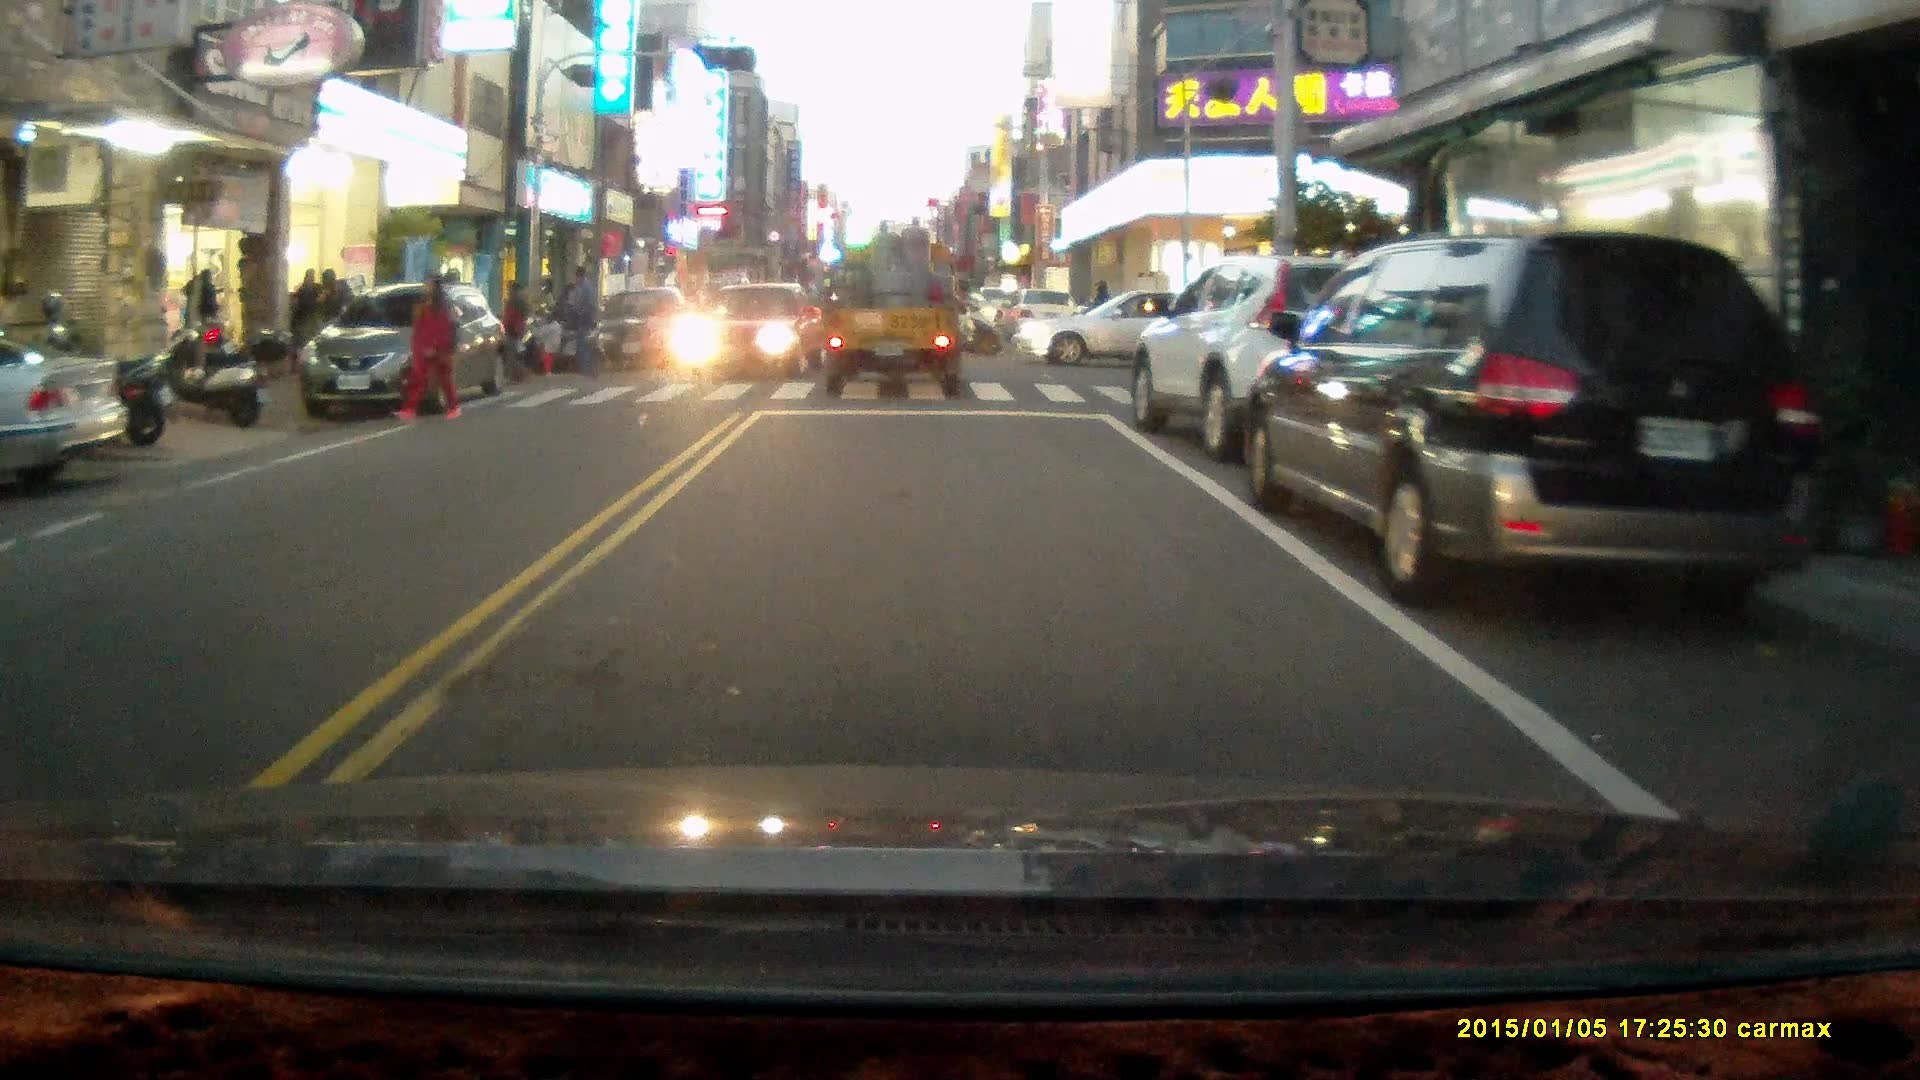pedestrian: (391, 272, 461, 425), (557, 262, 602, 382), (490, 273, 535, 388), (180, 267, 222, 369), (536, 309, 567, 373)
rider: (917, 269, 1003, 359)
vehicle: (1246, 234, 1823, 604), (1128, 252, 1458, 464), (298, 284, 505, 422), (818, 219, 973, 397), (1017, 286, 1242, 368), (1, 333, 120, 466), (674, 284, 819, 379), (580, 289, 702, 376)
